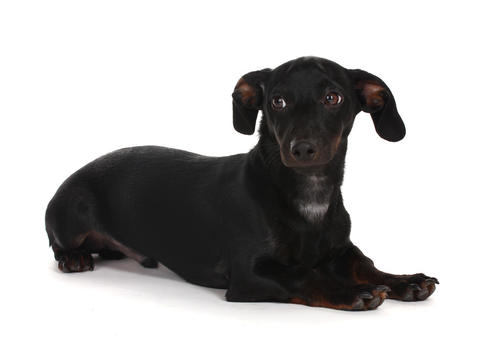dog: (214, 47, 427, 211)
